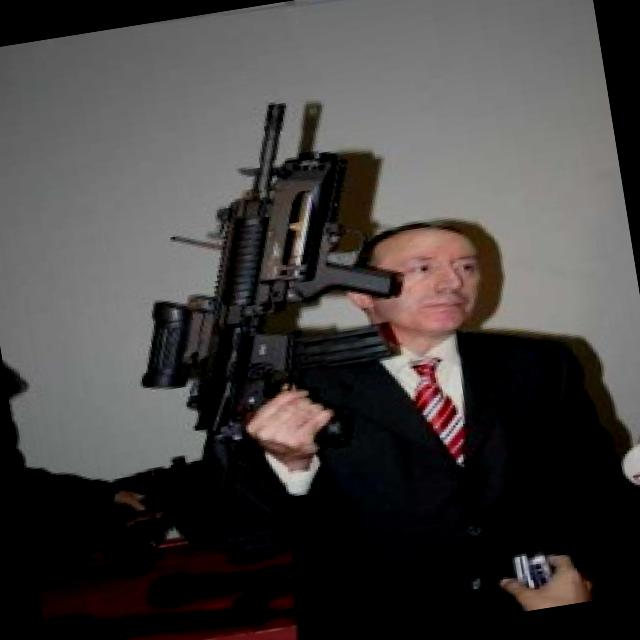long weapon: (119, 88, 375, 567)
